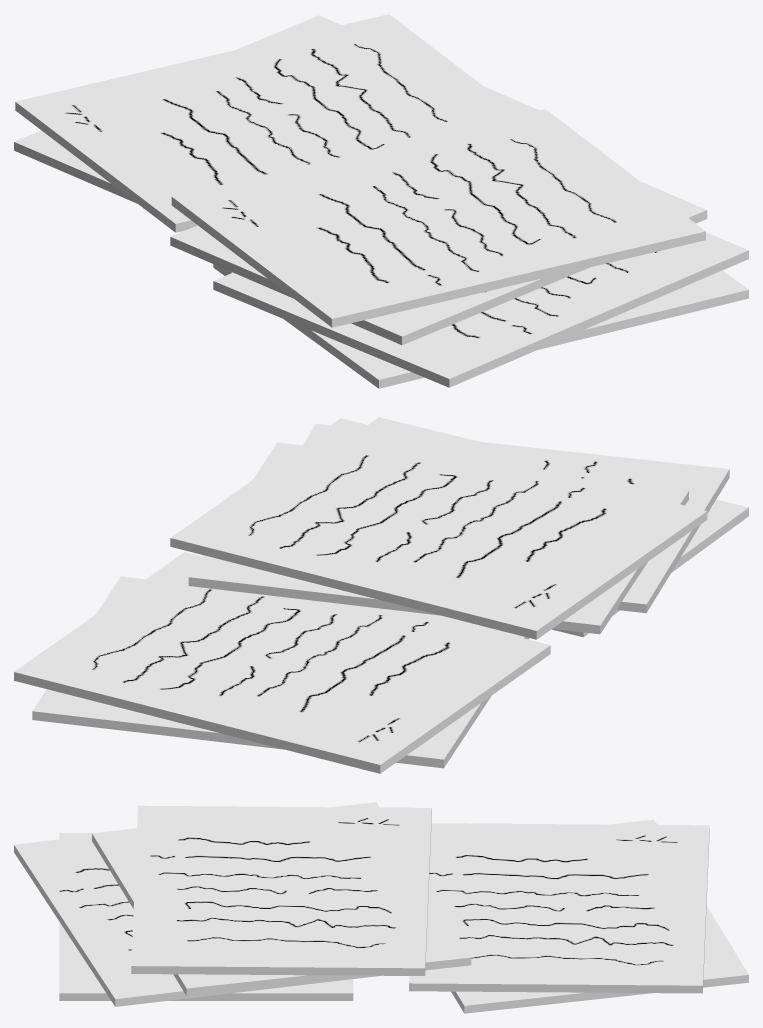
File: scattered paper.fbx
3 renders of one model, top to bottom at view 1: azimuth 30°, elevation 25°; view 2: azimuth 150°, elevation 25°; view 3: azimuth 270°, elevation 25°, orthographic. The views are drawn at different scales.
Parts seen in each view (by area): view 1: Cube; view 2: Cube; view 3: Cube.
Part boxes in pixels (left/top/right/bottom): Cube: left=14, top=14, right=748, bottom=388; Cube: left=14, top=417, right=748, bottom=773; Cube: left=14, top=802, right=748, bottom=1013.
Bounding box in the file's own units: 36.28 × 3.05 × 60.03.
